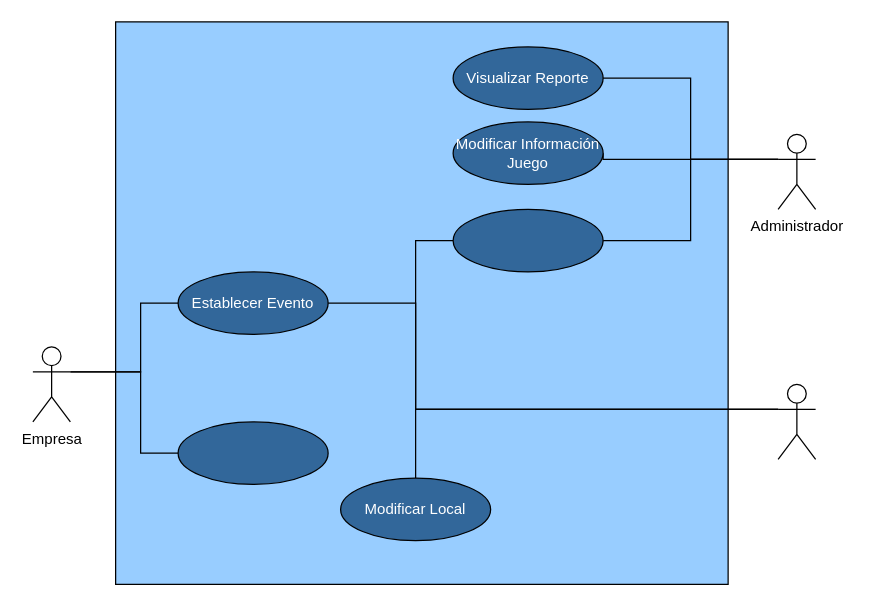
Image size: 875x606. Some labels were removed from this diagram. The shapes that lost their labels are listed below. From the top down, each one's centre as x and y in pixels, then its label:
the point at 527,240: Añadir Juego al Catálogo
the point at 796,421: Propietario Local
the point at 252,452: Publicitar Juego
